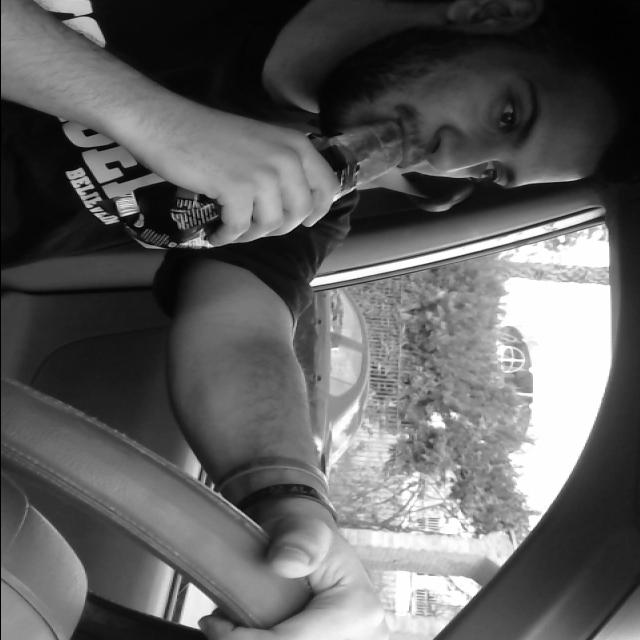eating: (96, 116, 418, 255)
